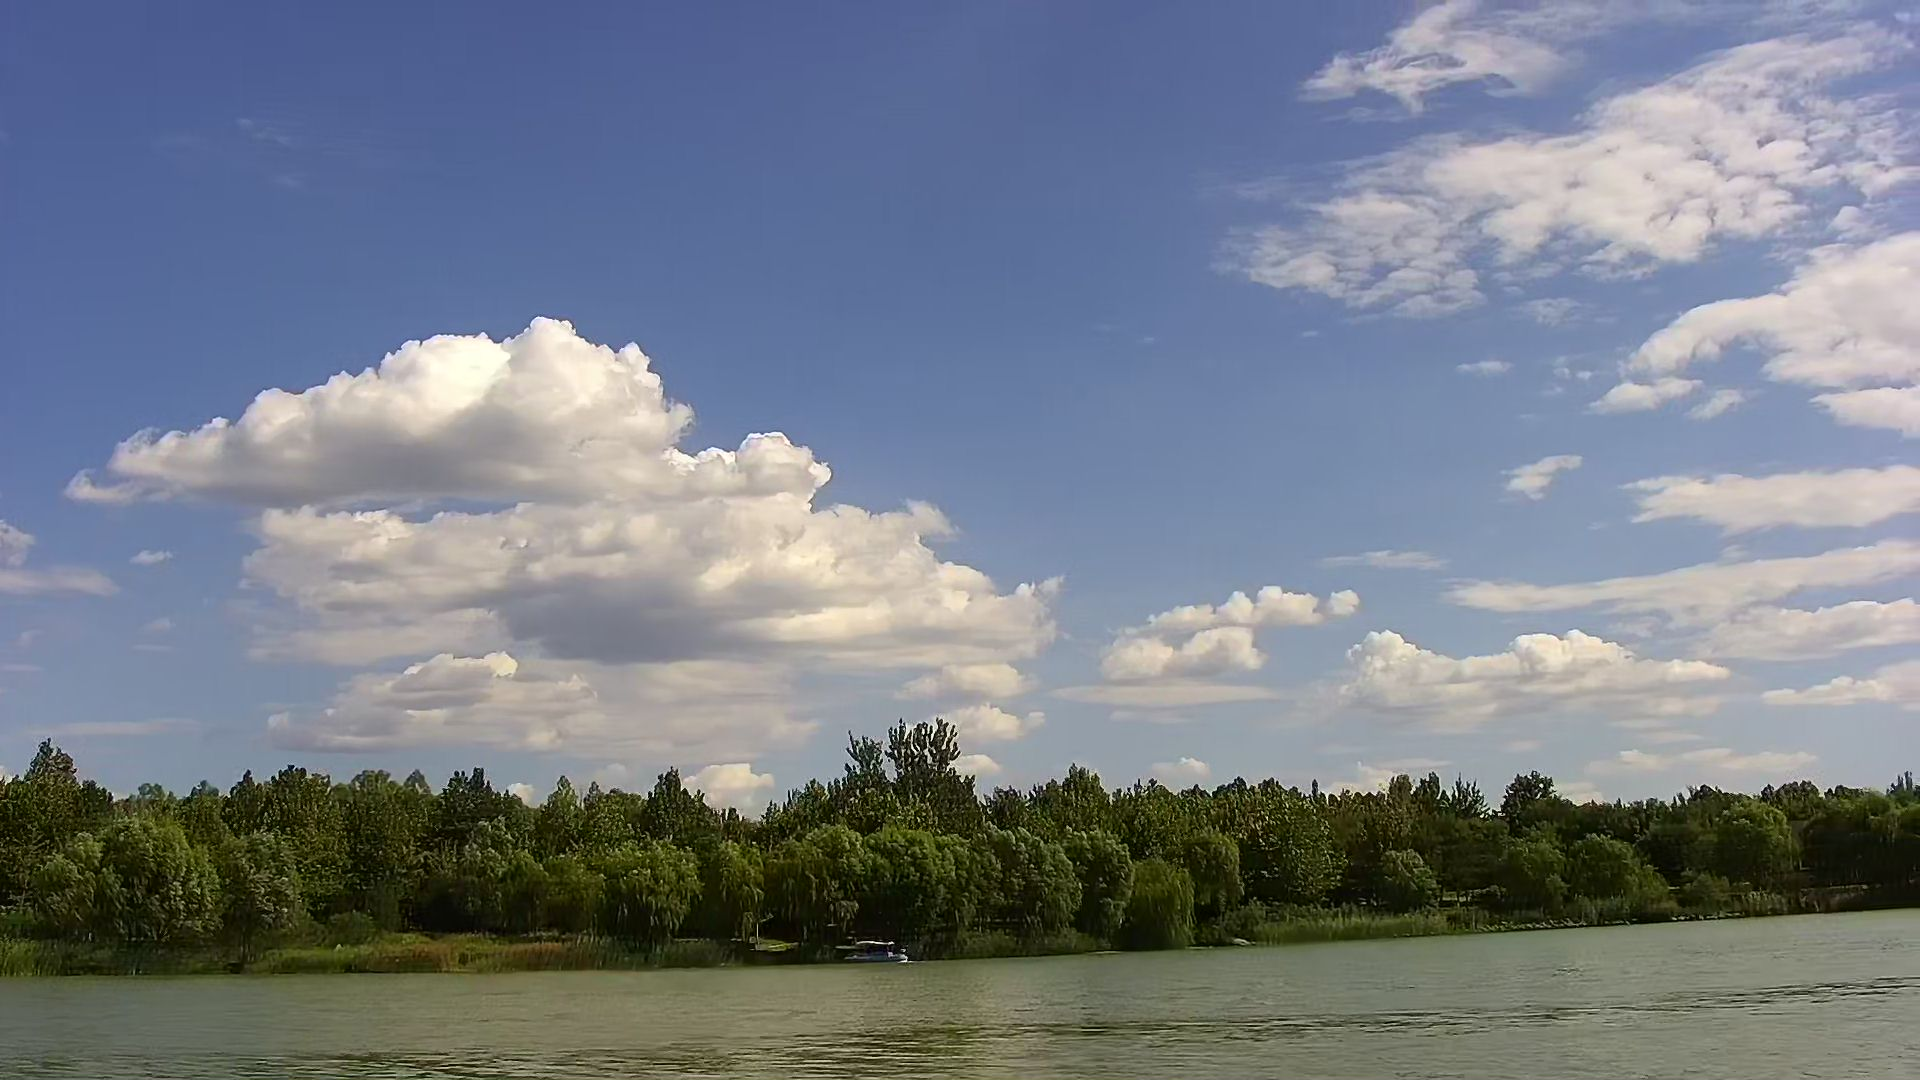boat: (833, 942, 911, 967)
